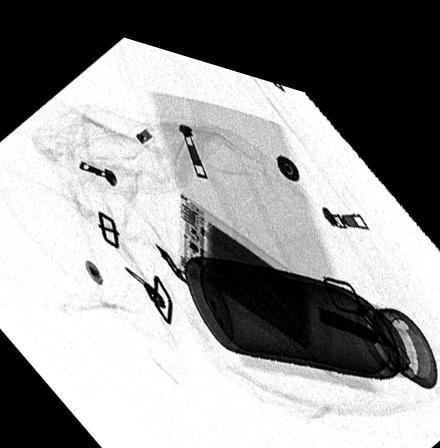Powerbank: (176, 182, 332, 357)
